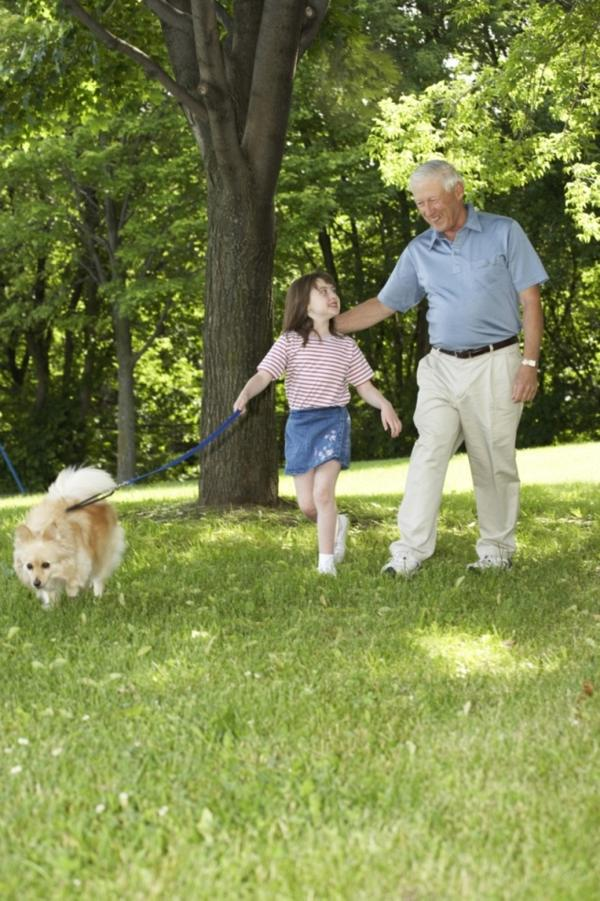person: (232, 273, 402, 578)
